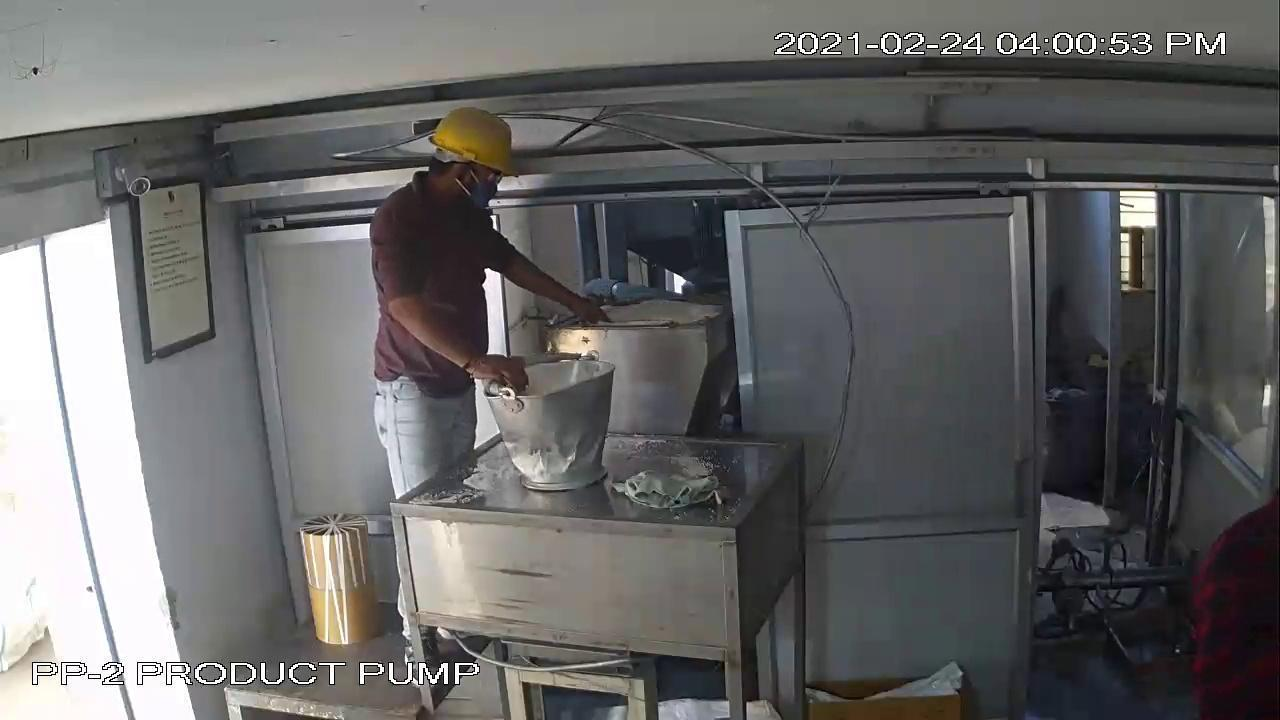helmet: (419, 94, 530, 184)
